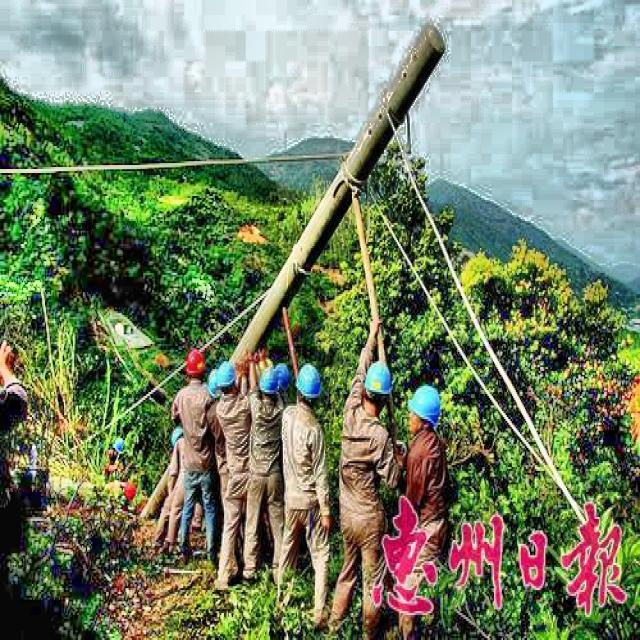helmet: (406, 382, 442, 448), (360, 356, 393, 417), (292, 356, 324, 413), (218, 359, 240, 398), (256, 367, 278, 406), (185, 346, 208, 380), (274, 359, 292, 398)
